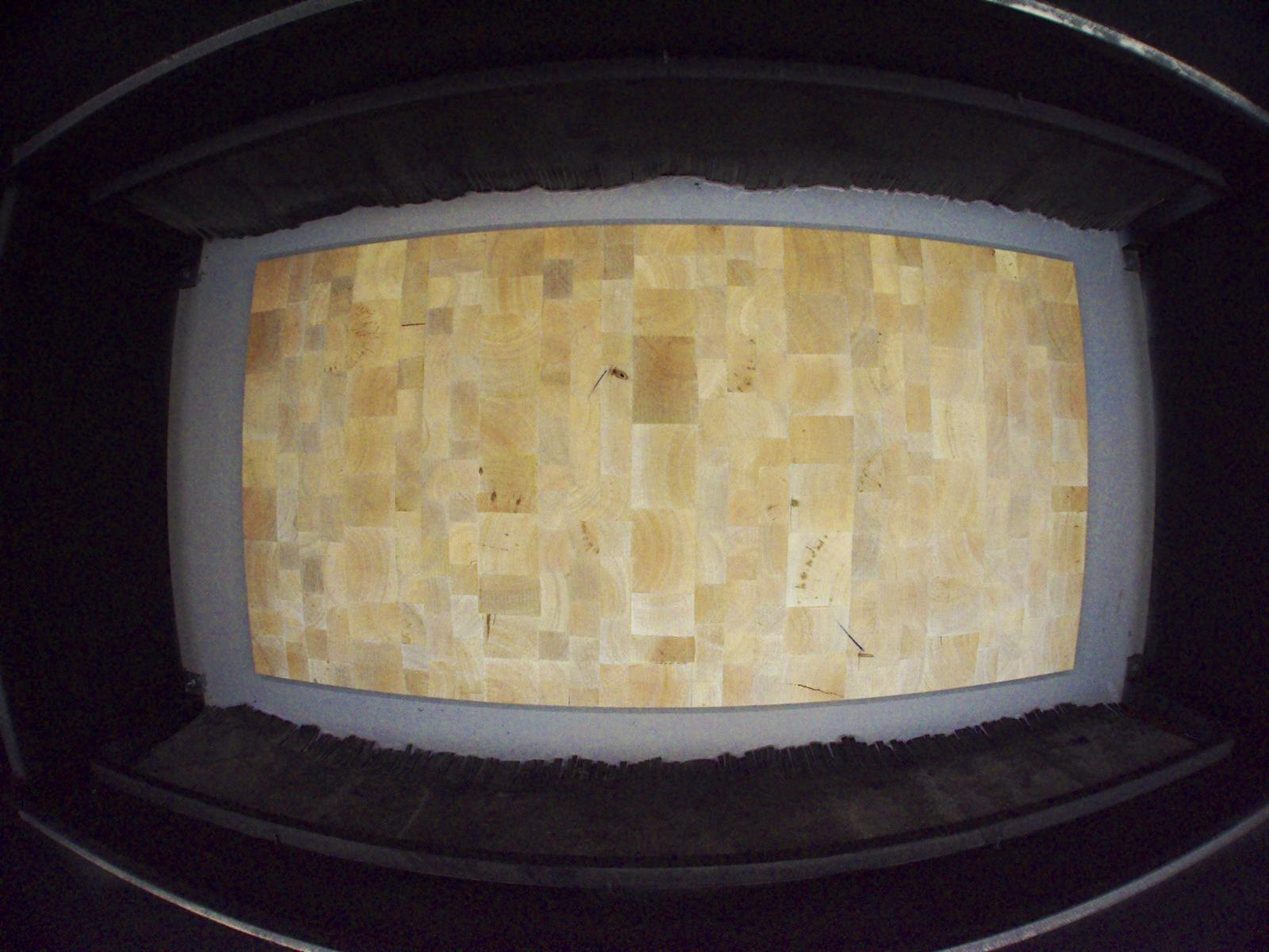sheck_ecuatoriano: (605, 365, 630, 398), (856, 639, 875, 671)
